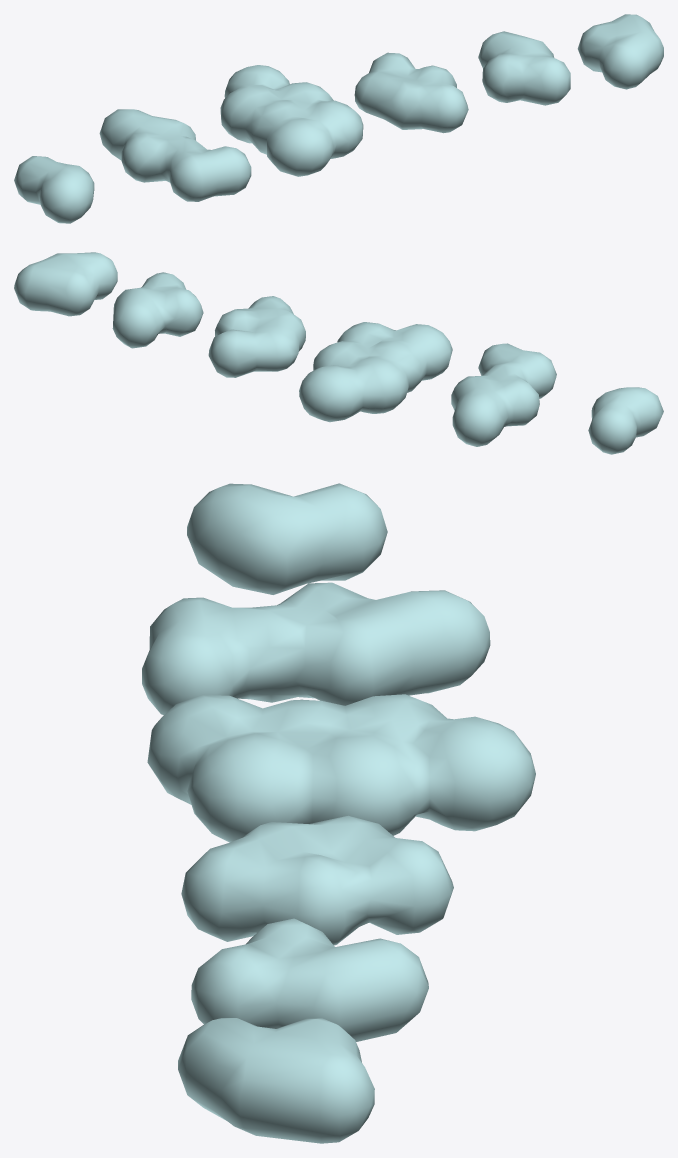
File: Clouds.fbx
3 views of the same model, one above another, from view 1: azimuth 30°, elevation 25°; view 2: azimuth 150°, elevation 25°; view 3: azimuth 270°, elevation 25° (orthographic). The views are drawn at different scales.
Parts seen in each view (by area): view 1: Cloud 4, Cloud 6, Cloud 3, Cloud 2, Cloud 5, Cloud 1; view 2: Cloud 4, Cloud 6, Cloud 3, Cloud 5, Cloud 2, Cloud 1; view 3: Cloud 4, Cloud 6, Cloud 3, Cloud 2, Cloud 5, Cloud 1.
Boxes of the visible parts, box(x1,y1,x2,y2) form: Cloud 4: box(220, 65, 363, 176); Cloud 6: box(99, 109, 251, 201); Cloud 3: box(354, 52, 468, 133); Cloud 2: box(478, 31, 570, 105); Cloud 5: box(577, 14, 663, 89); Cloud 1: box(14, 156, 94, 223); Cloud 4: box(299, 322, 452, 422); Cloud 6: box(451, 343, 556, 446); Cloud 3: box(208, 296, 305, 377); Cloud 5: box(14, 252, 117, 316); Cloud 2: box(112, 272, 203, 348); Cloud 1: box(588, 387, 663, 454); Cloud 4: box(147, 694, 535, 842); Cloud 6: box(142, 582, 490, 714); Cloud 3: box(181, 815, 453, 945); Cloud 2: box(191, 918, 428, 1041); Cloud 5: box(178, 1018, 374, 1143); Cloud 1: box(187, 483, 387, 594).
Size of the model in its own units: 3420 by 265 by 942.
